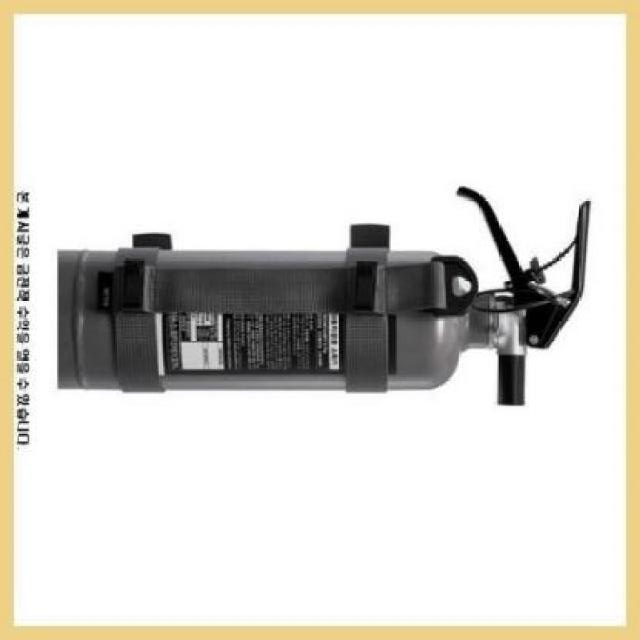fire extinguisher: (56, 185, 593, 406)
